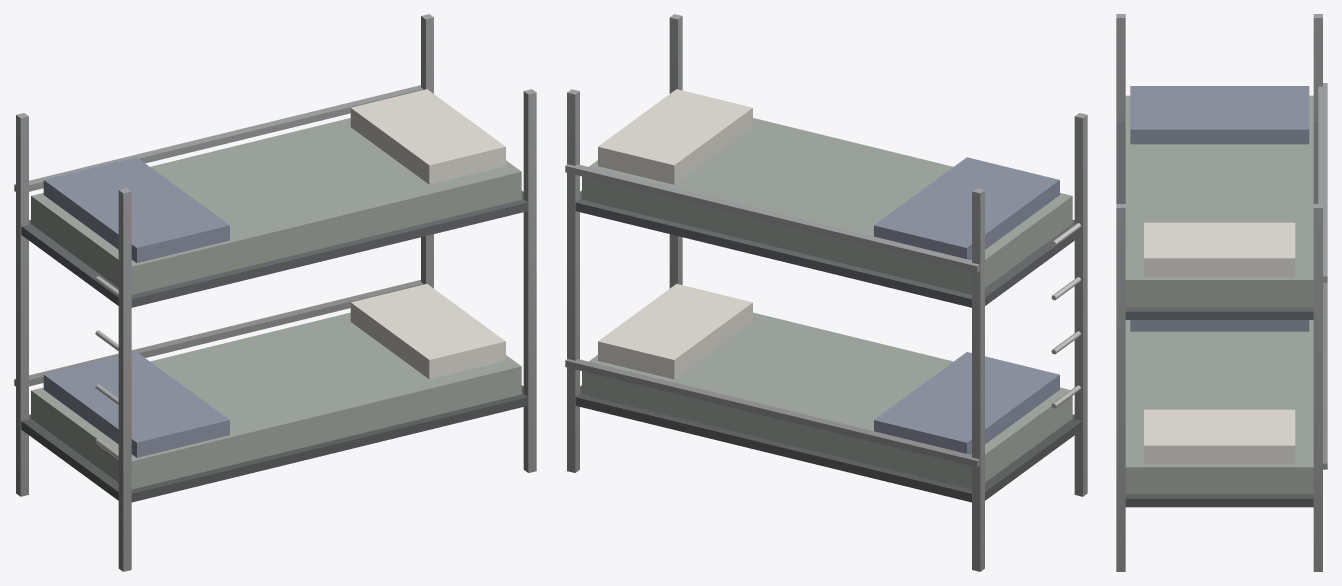
File: bunk_steel.glb
3 views of the same model, side by side, from view 1: azimuth 30°, elevation 25°; view 2: azimuth 150°, elevation 25°; view 3: azimuth 270°, elevation 25° (orthographic). The views are drawn at different scales.
Parts seen in each view (by area): view 1: bunk_steel; view 2: bunk_steel; view 3: bunk_steel.
Boxes of the visible parts, bbox=[...] form: bunk_steel: bbox=[14, 14, 536, 571]; bunk_steel: bbox=[565, 14, 1087, 571]; bunk_steel: bbox=[1116, 14, 1327, 571].
Bounding box in the file's own units: 2 × 1.75 × 0.92.
